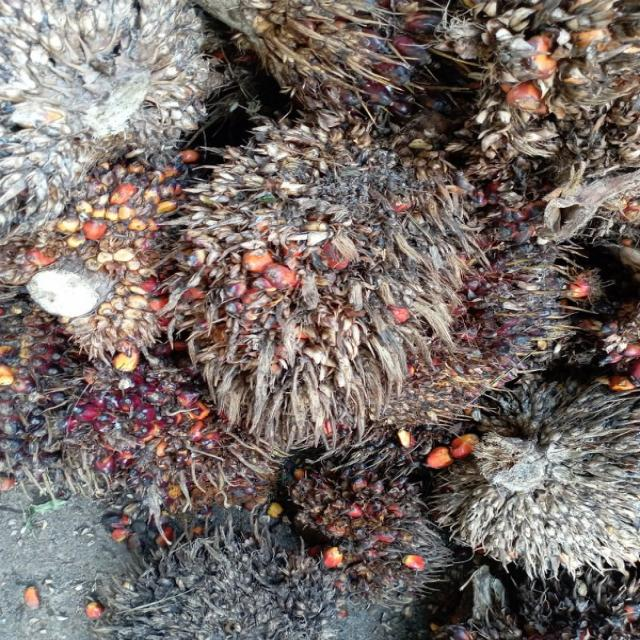fraksi 4: (134, 91, 558, 444)
